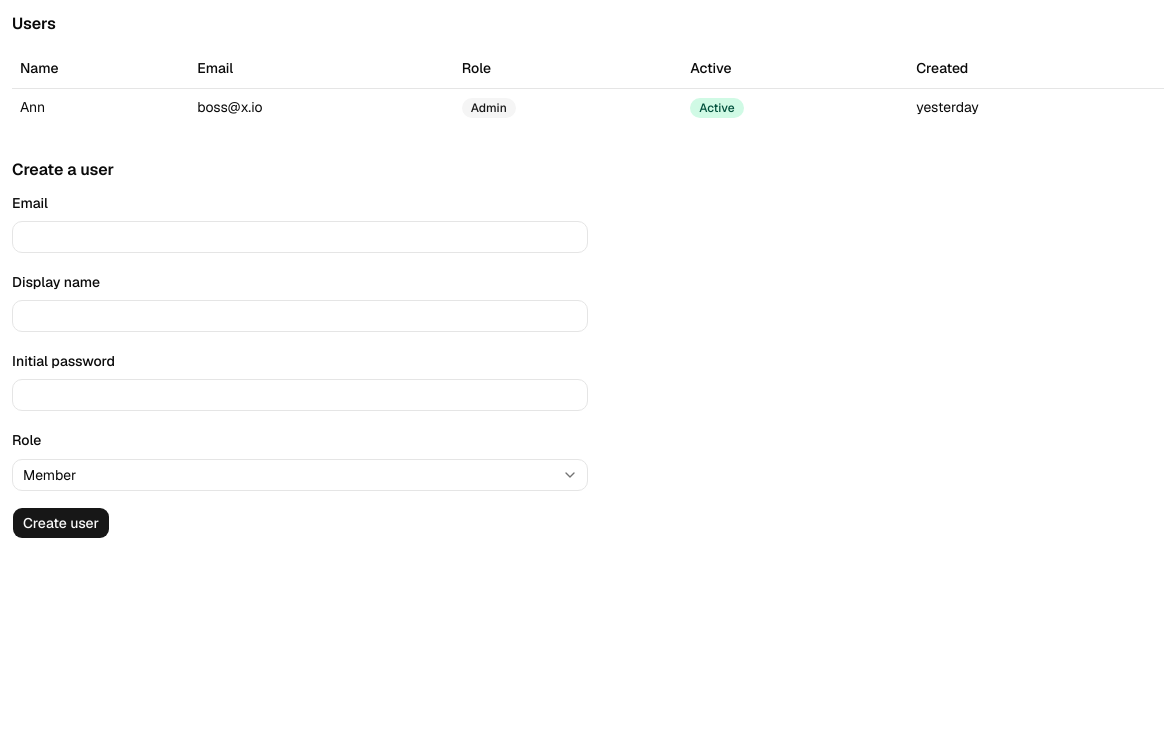
it: creating a user › blocks a short password with no request
The image size is (1164, 732).
Expected: the table is shown, left=12, top=48, right=1163, bottom=126
Type "new@x.io" into the field labelled "Email".
click(300, 237); type("new@x.io")  # box left=12, top=221, right=588, bottom=253
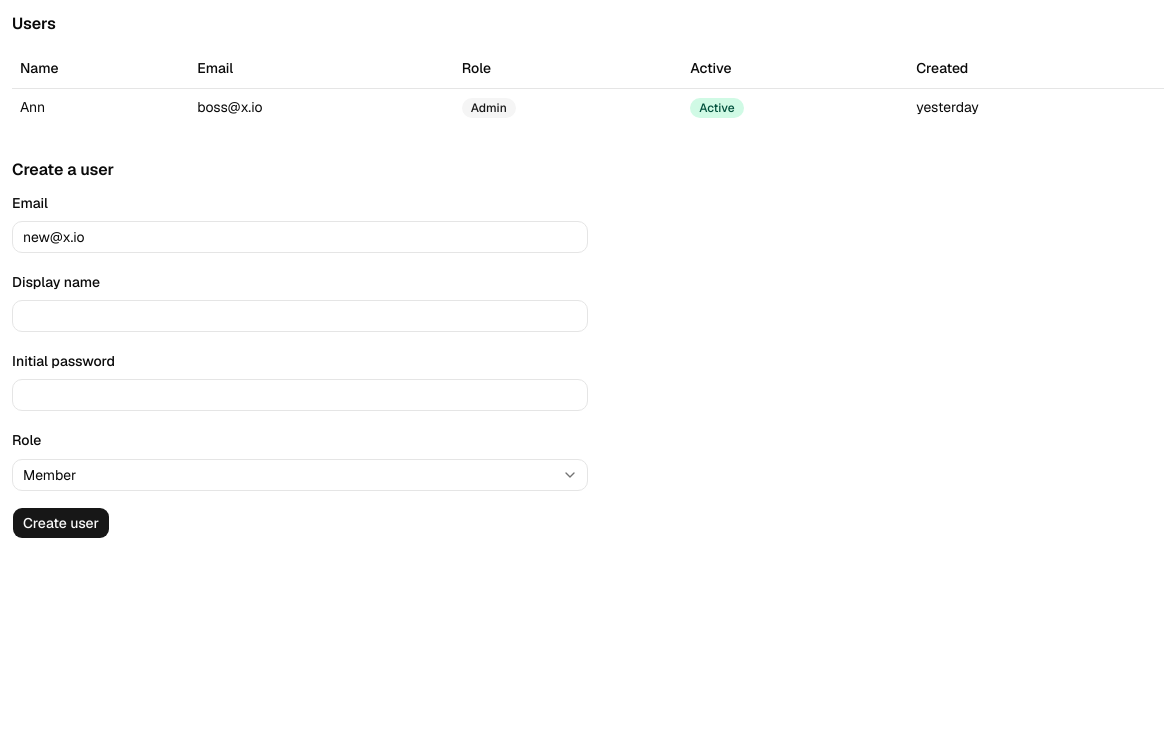
Type "New One" into the field labelled "Display name".
click(300, 316); type("New One")  # box left=12, top=300, right=588, bottom=332
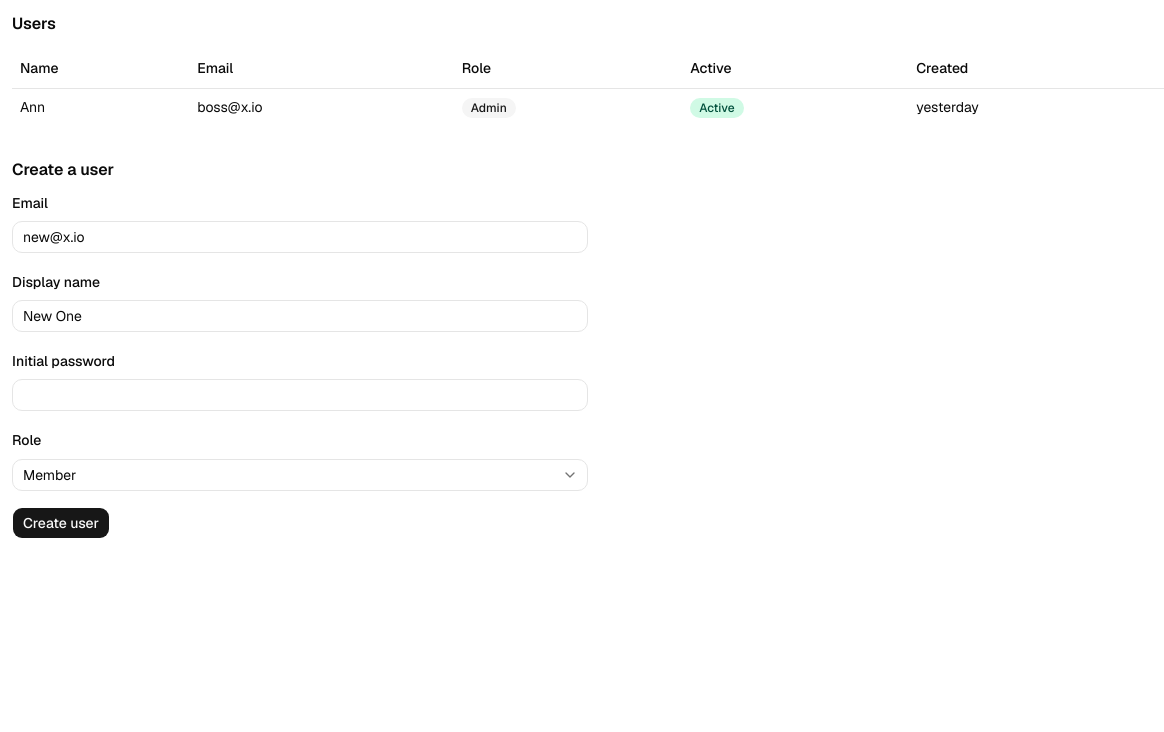
Type "short" into the password field labelled "Initial password".
click(300, 395); type("short")  # box left=12, top=379, right=588, bottom=411
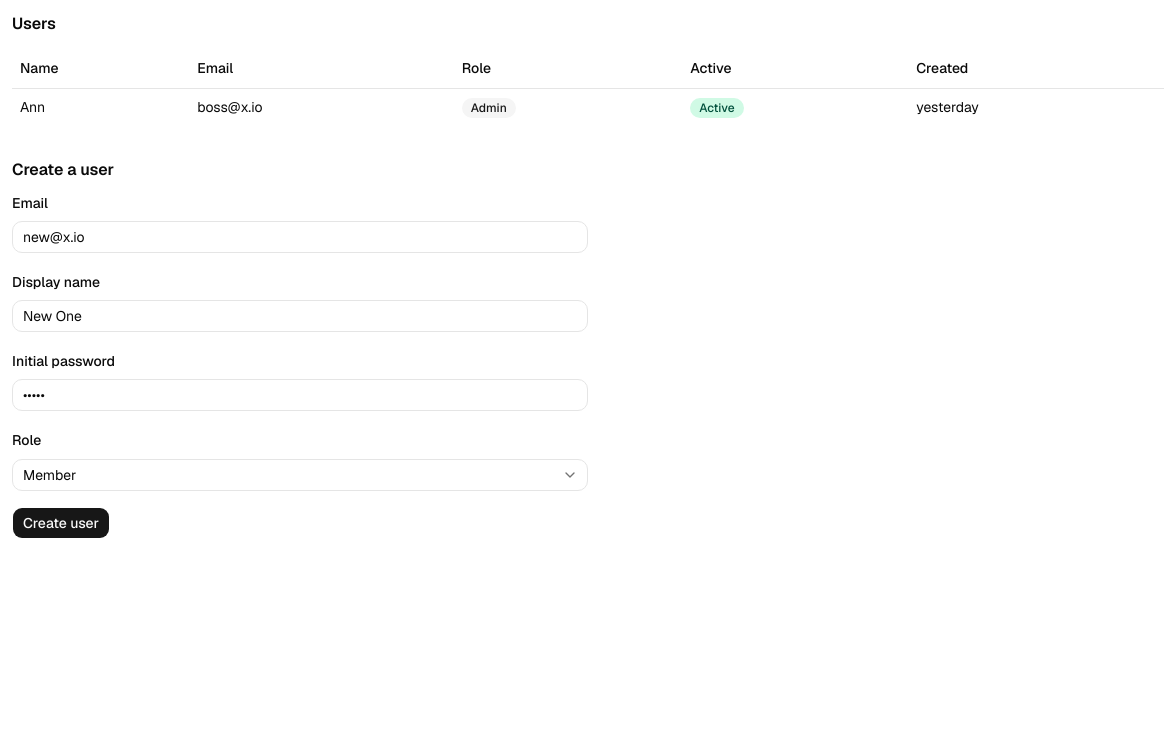
Click the button "Create user".
click(61, 522)  # box left=12, top=506, right=110, bottom=538
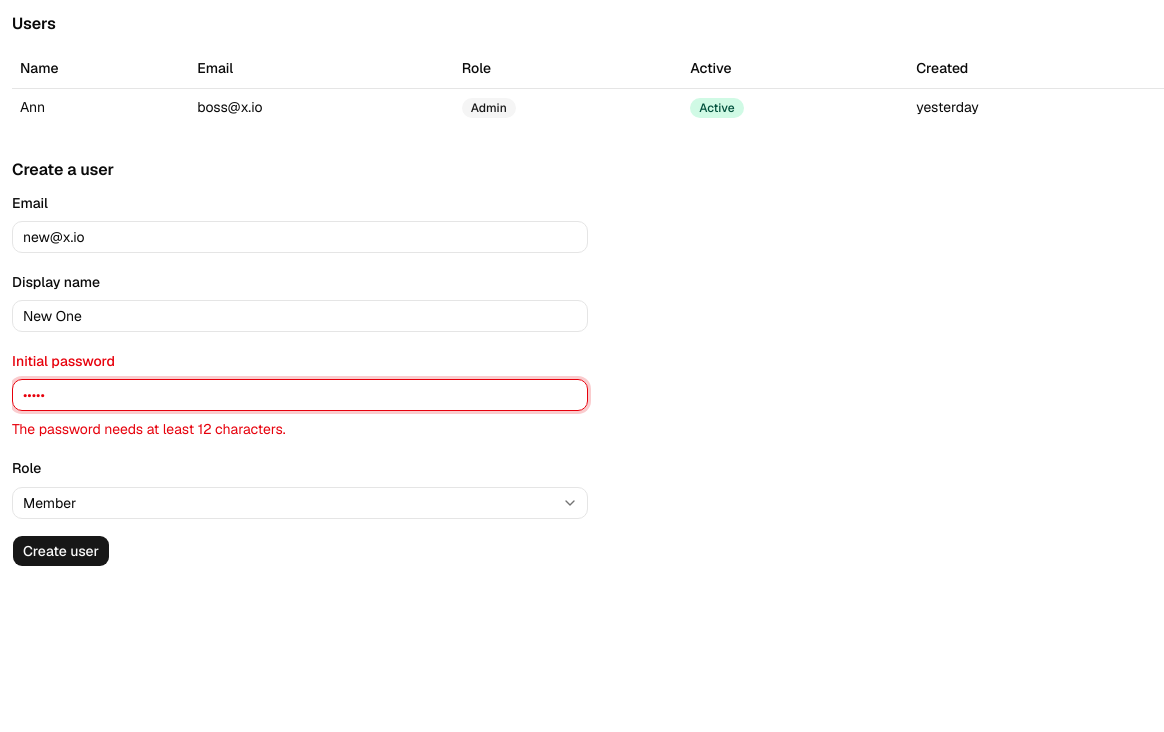
Now the text "The password needs at least 12 characters." is shown, box left=12, top=420, right=286, bottom=438
